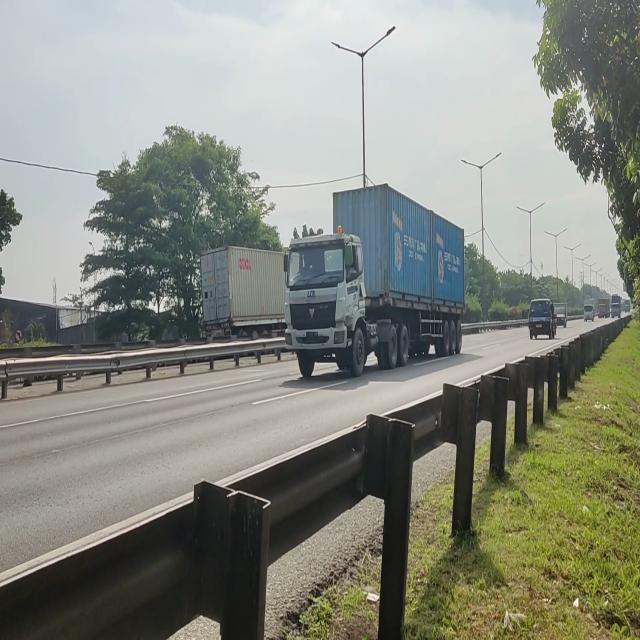Golongan V: (282, 220, 465, 382)
